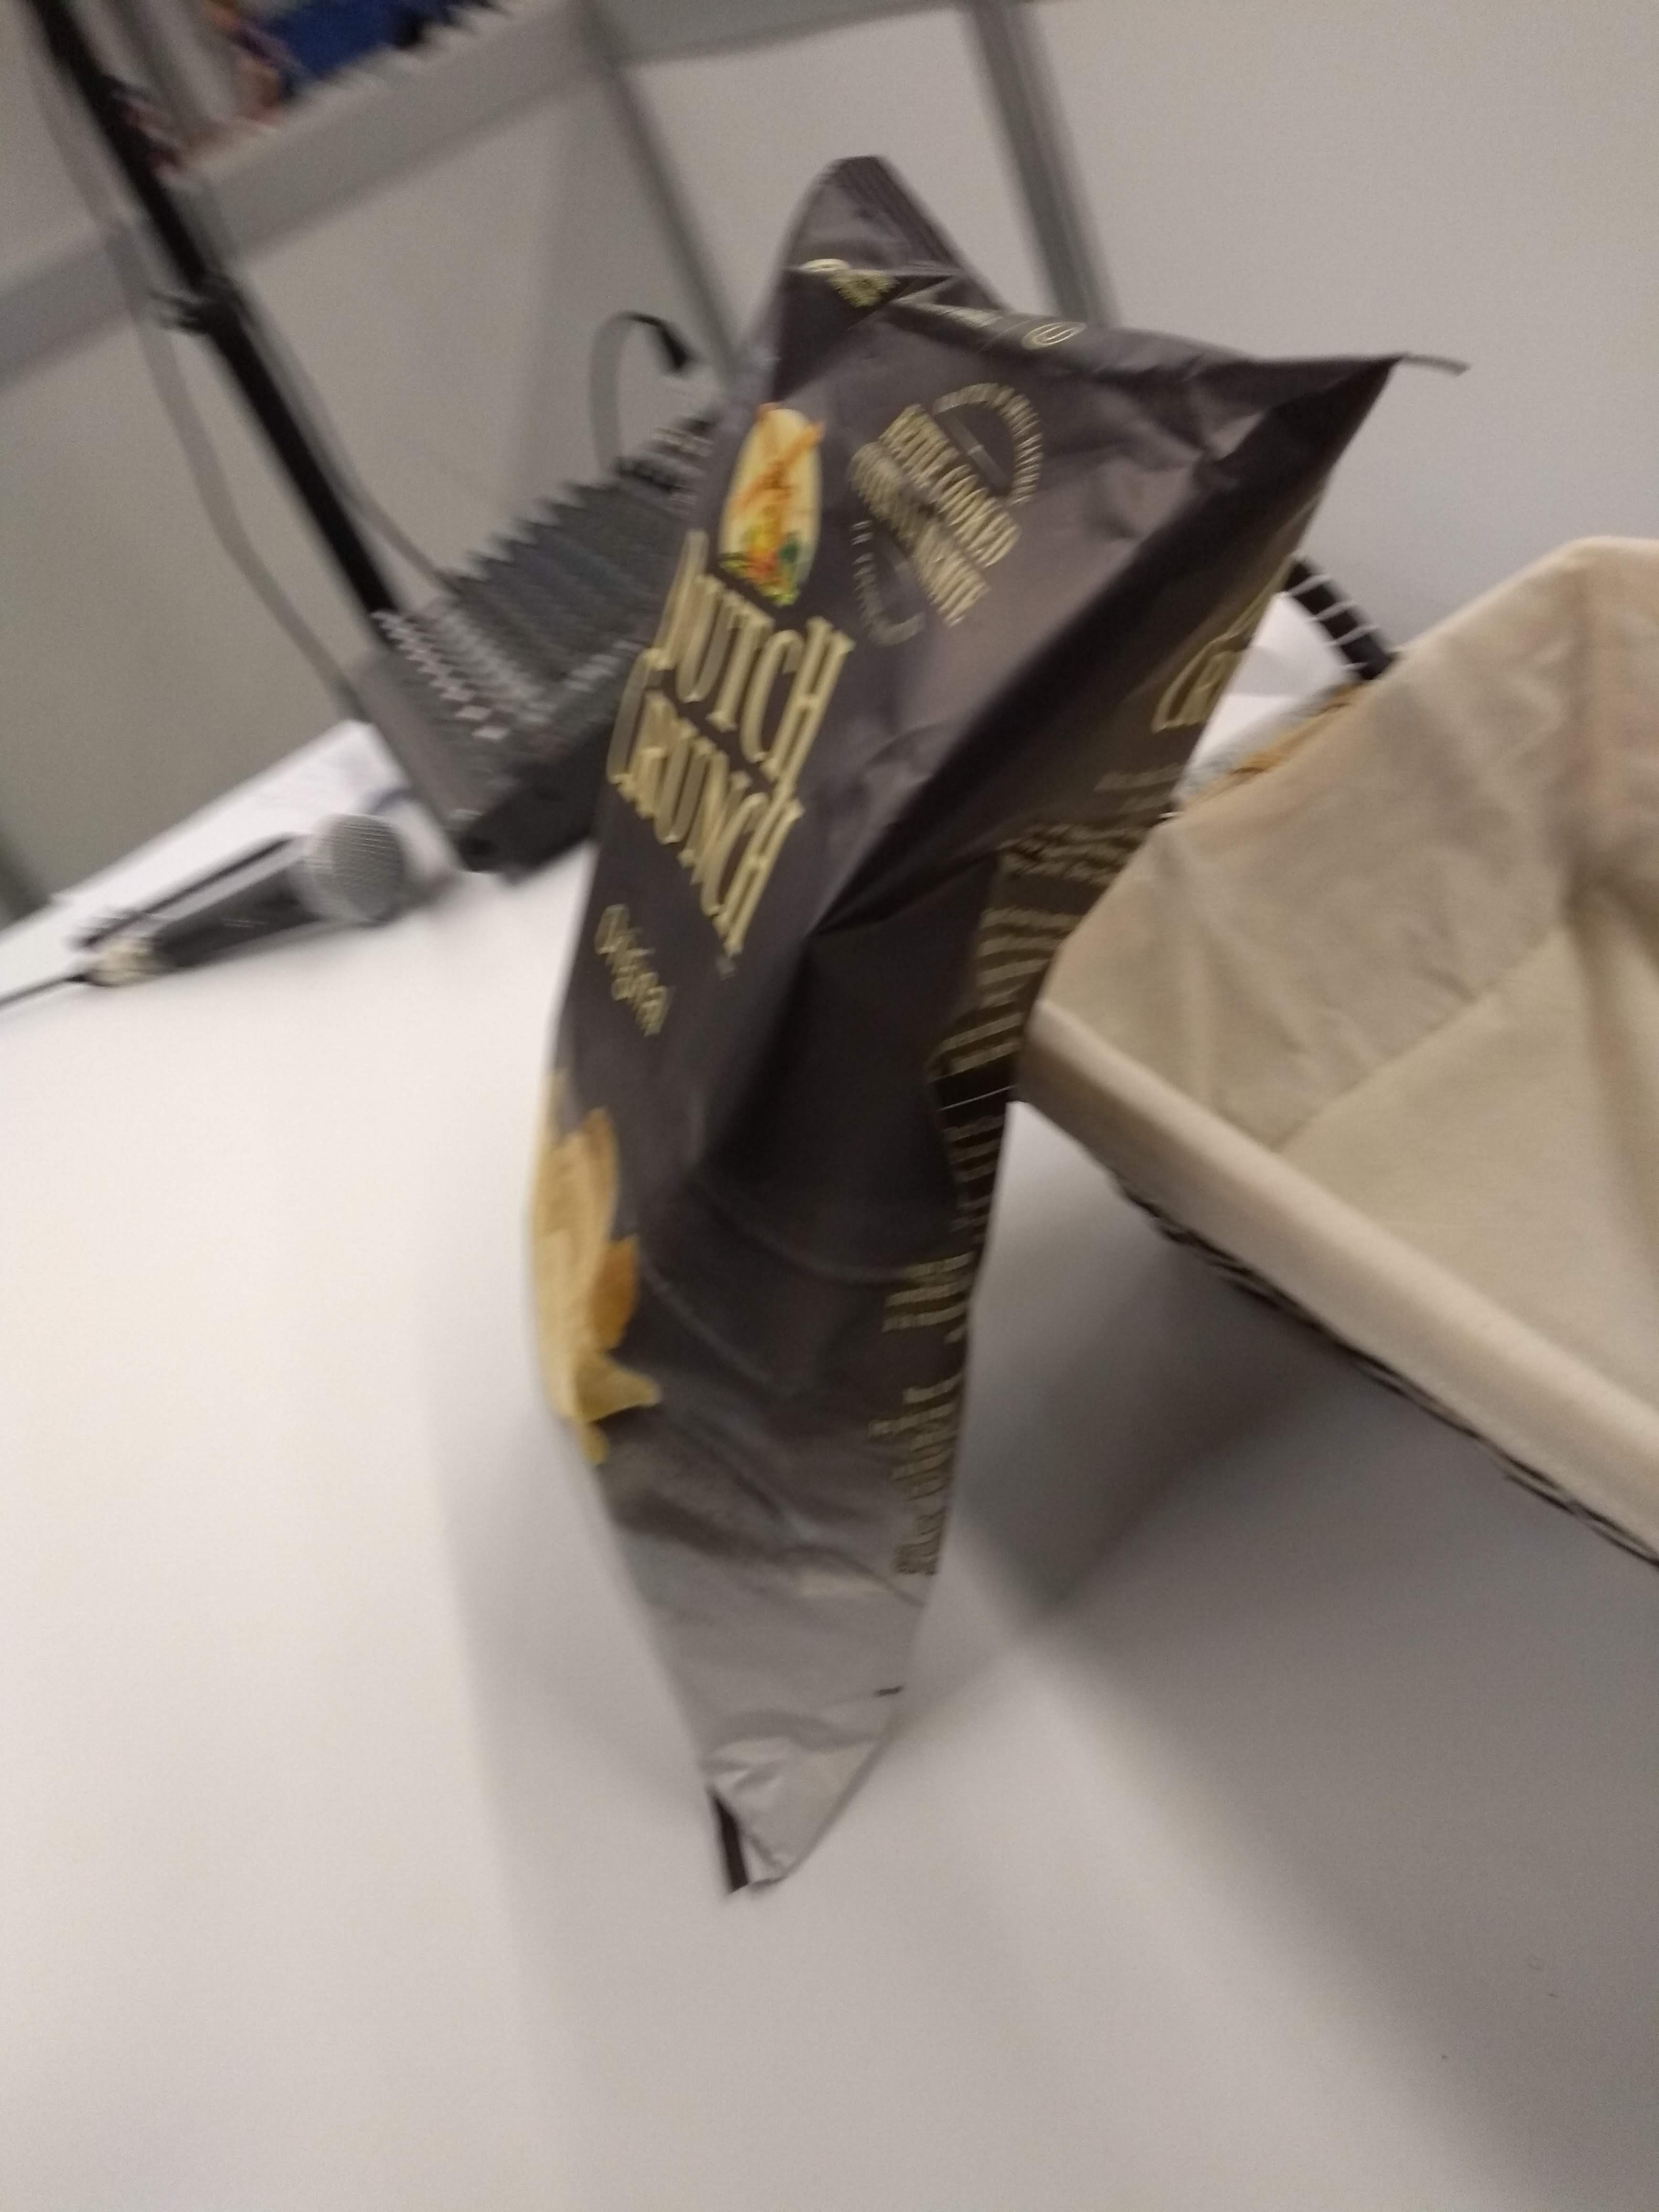potato_chips: (493, 150, 1466, 1898)
